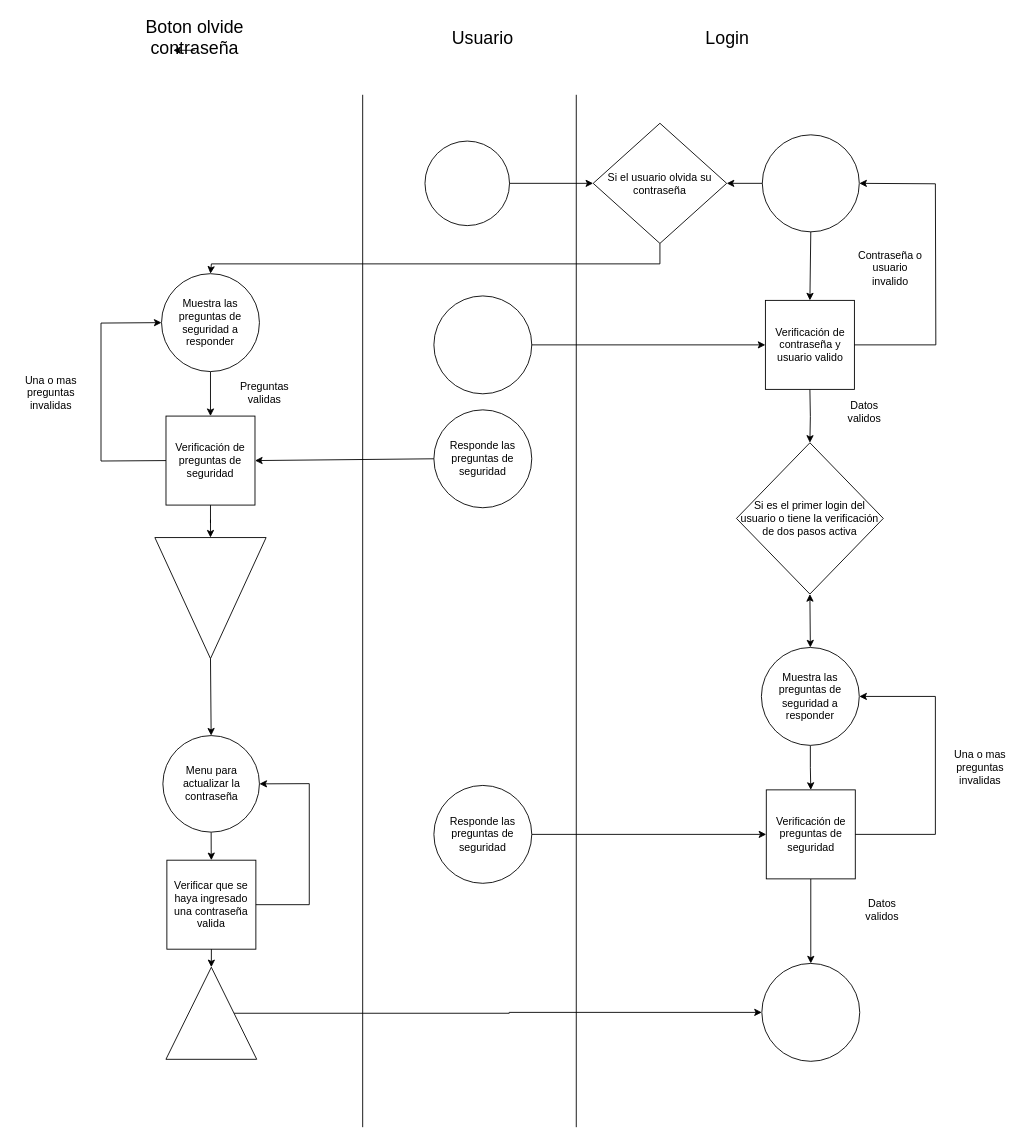
This 1031x1144 diagram has some shape labels left out. The shapes that lost their labels are listed below. From the top down, each one's box as (x1, y1, x2, y2) in pixels, then its label:
(424, 140, 510, 226): Usuario clickea olvide contraseña
(761, 134, 859, 232): Pide nombre de usuario y contraseña
(433, 295, 532, 394): Usuario inserta sus datos
(154, 537, 266, 659): Se envía un mail con una contraseña temporal
(165, 966, 257, 1059): Se guarda la contraseña nueva
(761, 963, 860, 1061): Acceso al sistema
